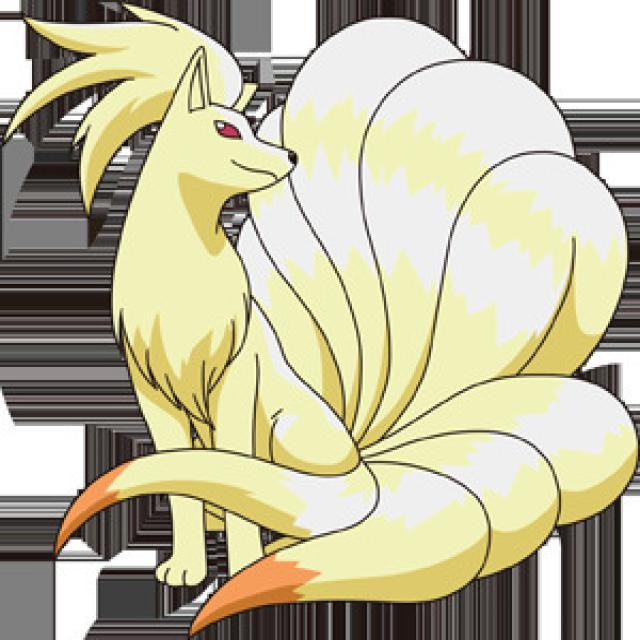Ninetales: (78, 0, 539, 581)
